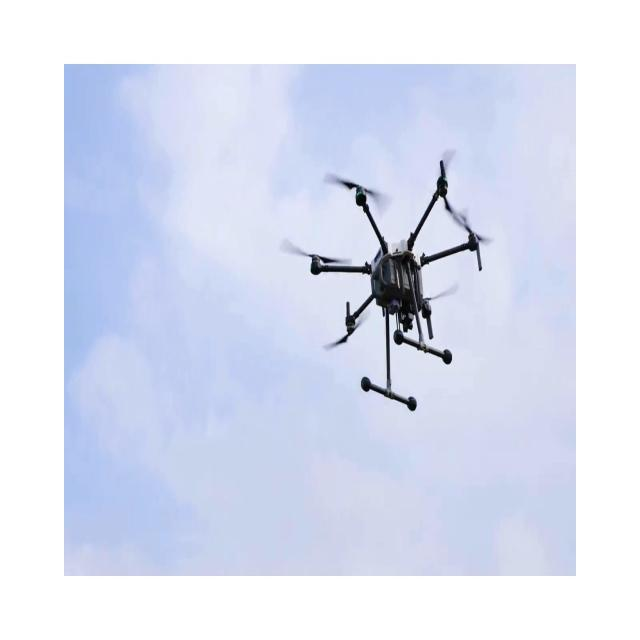drone: (279, 147, 494, 412)
